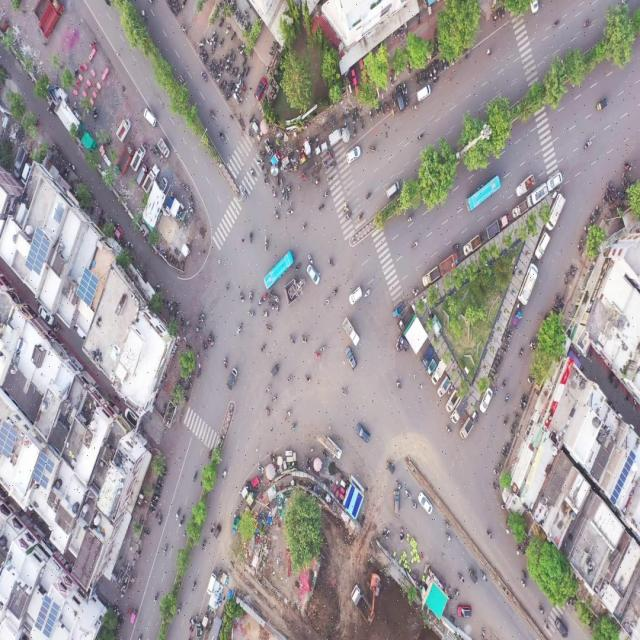3W: (227, 368, 238, 391), (467, 568, 479, 586), (595, 98, 607, 112), (386, 459, 395, 474), (130, 610, 137, 626), (270, 365, 279, 377), (215, 524, 221, 540)
Bus: (465, 176, 502, 214), (264, 248, 296, 291)
Cars: (534, 232, 550, 260), (252, 76, 268, 103), (418, 491, 434, 515), (395, 84, 406, 114), (346, 144, 360, 167), (306, 264, 321, 284), (480, 388, 492, 413), (356, 424, 370, 445), (417, 84, 432, 103), (548, 171, 562, 191), (554, 618, 568, 638), (348, 286, 362, 305), (386, 180, 400, 199), (344, 347, 356, 369), (206, 572, 217, 596), (144, 109, 158, 127), (392, 489, 402, 513), (457, 604, 472, 618)
LCV: (516, 262, 540, 308), (545, 191, 567, 233), (342, 318, 360, 348), (527, 186, 549, 210), (440, 252, 458, 278), (130, 144, 146, 172), (452, 397, 469, 423), (463, 235, 482, 257), (134, 162, 150, 188), (422, 266, 440, 289), (458, 417, 474, 442), (116, 118, 132, 142), (516, 175, 535, 195), (431, 360, 446, 385), (326, 437, 342, 460), (446, 388, 459, 413), (512, 199, 527, 219), (157, 136, 170, 158), (422, 346, 434, 369), (398, 309, 410, 331), (512, 310, 524, 331), (397, 333, 410, 352), (329, 128, 342, 146), (438, 377, 450, 396), (231, 516, 241, 536), (426, 358, 437, 376), (392, 302, 404, 318)
M2W: (152, 590, 160, 604), (552, 18, 561, 30), (264, 235, 270, 252), (208, 109, 218, 119), (197, 362, 202, 382), (442, 519, 452, 529), (503, 393, 512, 404), (583, 140, 592, 151), (239, 290, 245, 306), (224, 24, 232, 36), (480, 569, 488, 581), (537, 604, 545, 616), (446, 532, 453, 545), (272, 210, 281, 220), (432, 76, 441, 86), (197, 314, 206, 324), (219, 130, 227, 141), (486, 530, 494, 541), (174, 506, 180, 520), (360, 119, 366, 133), (503, 414, 510, 426), (244, 64, 250, 78), (222, 79, 228, 93), (301, 169, 308, 181), (492, 10, 498, 24), (396, 478, 402, 492), (200, 72, 208, 82), (218, 18, 226, 28), (457, 572, 465, 582), (203, 51, 209, 64), (407, 214, 414, 225), (449, 613, 456, 624), (268, 301, 275, 312), (323, 297, 331, 306), (304, 374, 312, 383), (302, 334, 308, 346), (192, 470, 198, 482), (162, 543, 168, 555), (410, 103, 418, 112), (502, 378, 508, 390), (202, 340, 208, 352), (576, 243, 582, 255), (181, 183, 189, 192), (198, 39, 206, 48), (403, 81, 409, 93), (239, 42, 245, 54), (190, 581, 197, 591), (301, 222, 308, 232), (289, 335, 296, 345), (260, 343, 267, 353), (266, 324, 273, 334), (236, 324, 243, 334), (141, 10, 148, 20), (514, 412, 521, 422), (411, 241, 418, 251), (208, 524, 215, 534), (243, 10, 250, 20), (503, 340, 510, 350), (563, 272, 568, 286), (210, 31, 217, 41), (520, 580, 527, 590), (176, 602, 182, 613), (395, 378, 401, 389), (543, 619, 549, 630), (330, 115, 335, 128), (464, 49, 469, 62), (510, 428, 515, 441), (318, 203, 326, 211), (271, 395, 279, 403), (400, 526, 404, 542), (263, 178, 271, 186), (290, 423, 299, 430), (365, 191, 372, 200), (405, 489, 412, 498), (411, 500, 418, 509), (142, 529, 151, 536), (492, 469, 501, 476), (181, 25, 188, 34), (323, 189, 329, 199), (314, 177, 320, 187), (323, 160, 328, 172), (222, 469, 228, 479), (265, 384, 271, 394), (385, 102, 390, 114), (414, 74, 419, 86), (480, 228, 485, 240), (518, 348, 524, 358), (386, 528, 391, 540), (332, 287, 338, 297), (454, 587, 460, 597), (595, 204, 601, 214), (350, 113, 356, 123), (418, 69, 422, 84), (183, 394, 189, 404), (154, 146, 159, 158), (216, 73, 222, 83), (241, 58, 247, 68), (237, 74, 242, 86), (209, 58, 214, 70), (445, 426, 452, 434), (341, 388, 348, 396), (314, 352, 321, 360), (368, 146, 376, 153), (345, 213, 353, 220), (369, 109, 373, 123), (583, 20, 590, 28), (247, 130, 254, 138), (352, 125, 357, 136), (389, 75, 394, 86), (493, 386, 498, 397), (229, 67, 234, 78), (218, 79, 223, 90), (364, 289, 370, 298), (263, 310, 269, 319), (265, 407, 271, 416), (249, 168, 255, 177), (264, 169, 270, 178), (219, 39, 225, 48), (208, 446, 212, 459), (423, 71, 427, 84), (264, 292, 268, 305), (436, 61, 440, 74), (217, 58, 221, 71), (328, 258, 333, 268), (201, 540, 206, 550), (234, 67, 239, 77), (234, 8, 239, 18), (258, 297, 263, 307), (155, 510, 160, 520), (229, 48, 234, 58), (295, 264, 302, 271), (319, 344, 326, 351), (186, 343, 193, 350), (185, 320, 192, 327), (257, 465, 264, 472), (286, 209, 294, 215), (194, 327, 202, 333), (358, 212, 364, 220), (417, 134, 425, 140), (286, 376, 292, 384), (211, 337, 215, 349), (272, 190, 278, 198), (500, 348, 506, 356), (232, 52, 236, 64), (286, 190, 290, 202), (520, 570, 526, 578), (481, 627, 485, 639), (274, 295, 280, 303), (502, 446, 510, 452), (526, 378, 534, 384), (381, 105, 385, 117), (429, 68, 433, 80), (432, 64, 436, 76), (501, 6, 505, 18), (206, 38, 212, 46), (231, 31, 236, 40), (227, 80, 232, 89), (223, 357, 227, 368), (158, 515, 162, 526), (218, 567, 222, 578), (282, 189, 286, 200), (225, 58, 229, 69), (248, 310, 255, 316), (453, 243, 460, 249), (412, 288, 419, 294), (499, 452, 506, 458), (588, 216, 594, 223), (155, 284, 161, 291), (256, 159, 263, 165), (510, 422, 516, 429), (504, 336, 511, 342), (494, 358, 501, 364), (496, 354, 503, 360), (552, 306, 559, 312), (153, 494, 160, 500), (225, 282, 230, 290), (174, 301, 182, 306), (328, 150, 333, 158), (496, 464, 504, 469), (151, 148, 155, 158), (223, 53, 227, 63), (241, 69, 245, 79), (250, 290, 253, 303), (391, 92, 394, 105), (443, 58, 446, 71), (249, 231, 252, 243), (330, 162, 336, 168), (519, 404, 525, 410), (378, 102, 381, 114), (426, 70, 429, 82), (498, 10, 501, 22), (155, 488, 161, 494), (276, 176, 280, 185), (211, 44, 215, 52), (220, 64, 224, 72), (148, 508, 154, 513), (521, 400, 526, 405), (152, 498, 158, 502)
Truck: (350, 584, 376, 628), (38, 0, 62, 39), (115, 143, 134, 172)
